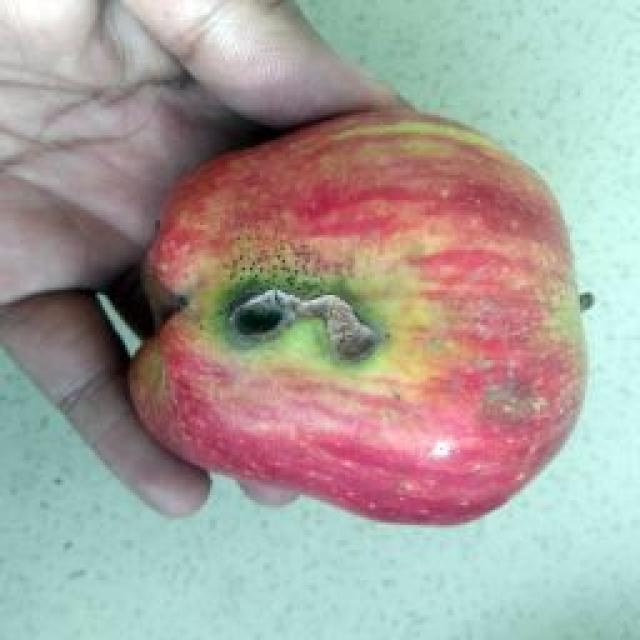Bad_Apple: (130, 109, 585, 523)
